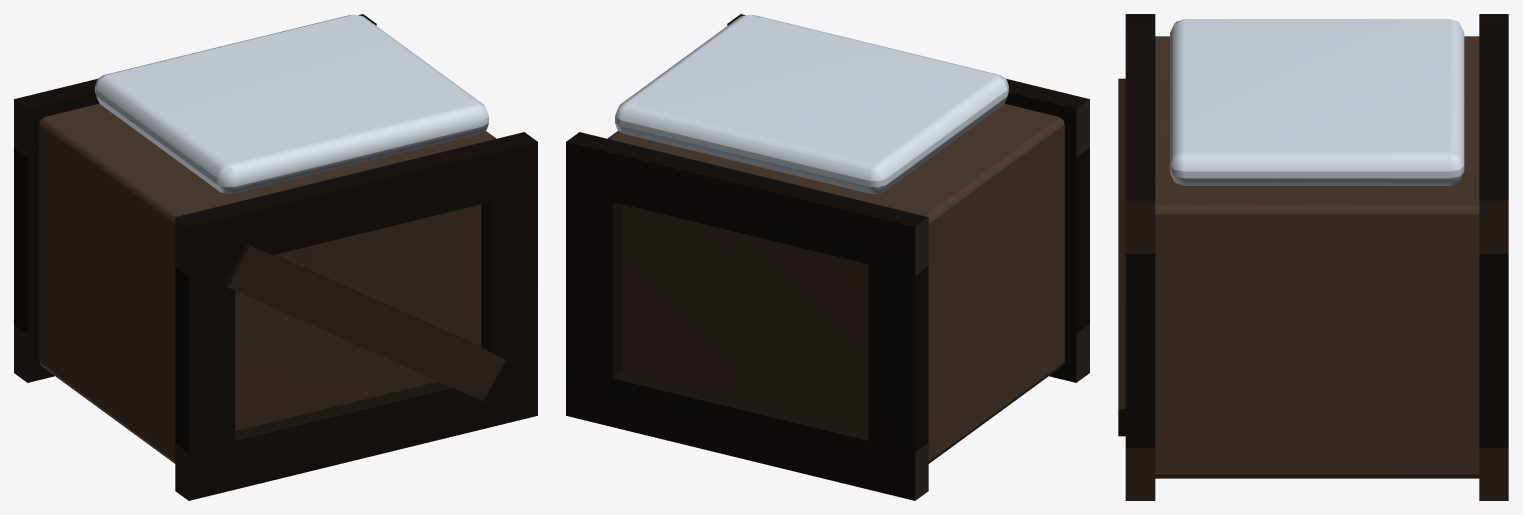
Rendered from supply_crate_small.glb.
3 renders of one model, left to right at view 1: azimuth 30°, elevation 25°; view 2: azimuth 150°, elevation 25°; view 3: azimuth 270°, elevation 25°, orthographic. The views are drawn at different scales.
Parts seen in each view (by area): view 1: CrateSmall; view 2: CrateSmall; view 3: CrateSmall.
Boxes of the visible parts, x1=… form: CrateSmall: x1=14, y1=14, x2=537, y2=500; CrateSmall: x1=566, y1=14, x2=1089, y2=500; CrateSmall: x1=1118, y1=14, x2=1508, y2=500.
Size of the model in its own units: 0.6 by 0.495 by 0.53.
